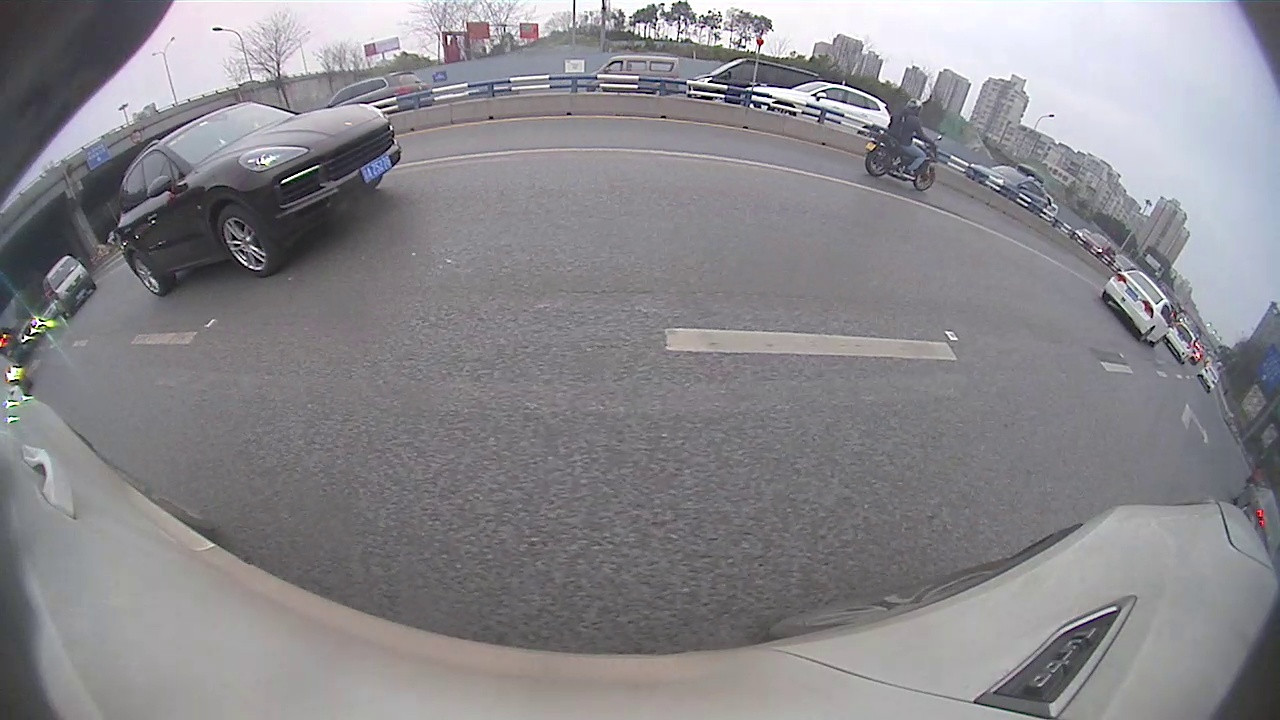car: (111, 101, 402, 296), (1103, 268, 1174, 349), (326, 70, 436, 111), (41, 254, 98, 318), (590, 53, 683, 76), (1160, 319, 1200, 365)
front: (217, 205, 276, 280)
rear: (126, 248, 173, 295)
rider: (863, 98, 940, 193)
